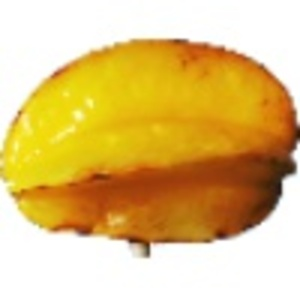carambola: (1, 35, 300, 260)
